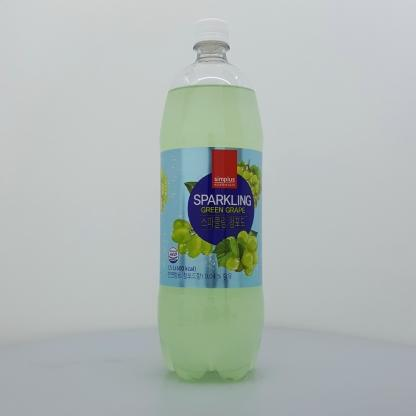---------------: (157, 18, 264, 381)
